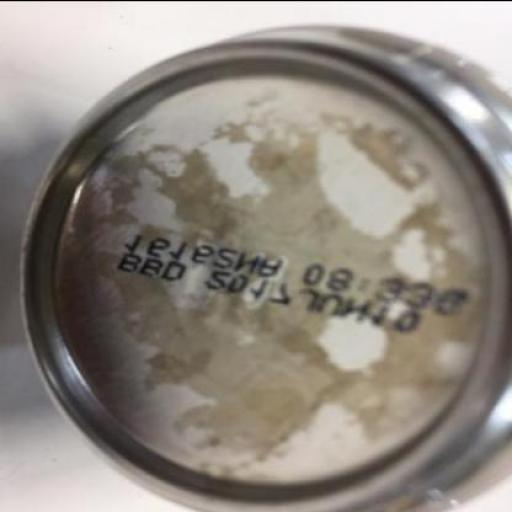metal: (21, 24, 511, 510)
